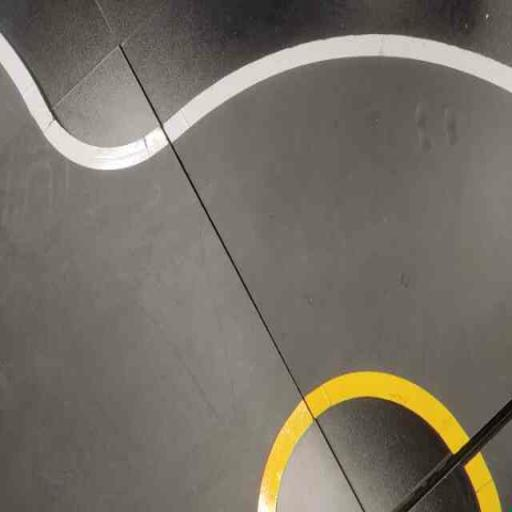left: (160, 10, 511, 458)
